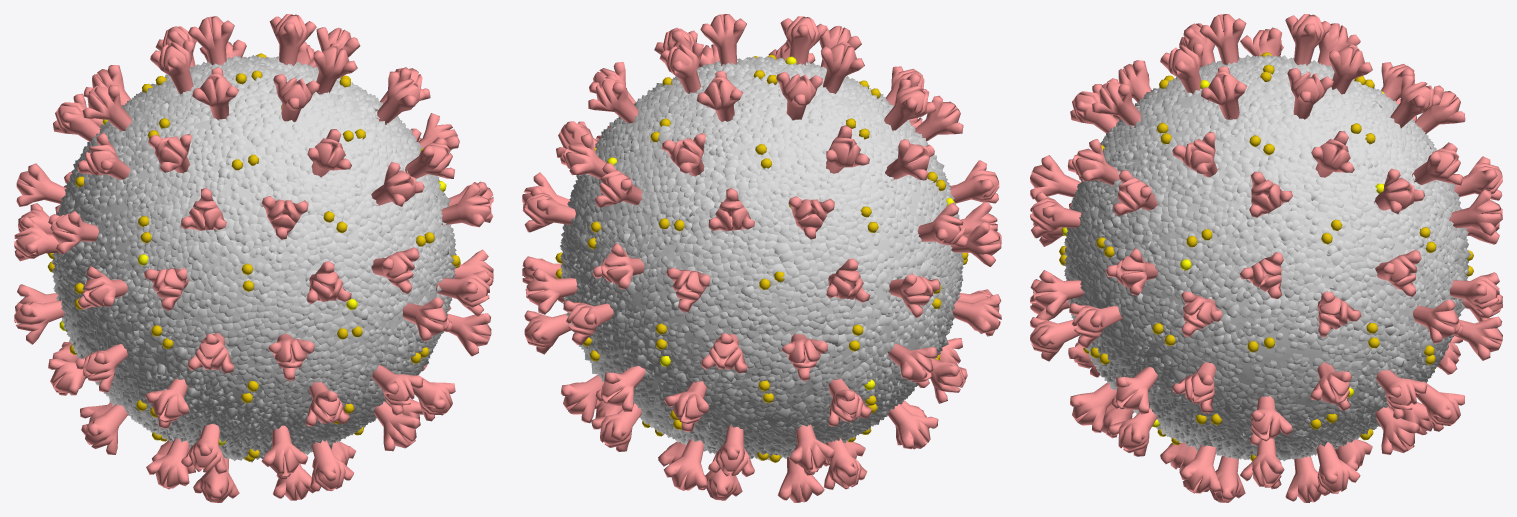
The model's file is covid.gltf.
The picture shows the model from 3 angles, left to right: view 1: azimuth 30°, elevation 25°; view 2: azimuth 150°, elevation 25°; view 3: azimuth 270°, elevation 25°; orthographic projection.
Visible parts, largest first — view 1: core, corona; view 2: core, corona; view 3: core, corona.
Part boxes in pixels (x1,y1,x2,y2): core: (47, 53, 460, 462); corona: (14, 14, 493, 502); core: (555, 54, 968, 462); corona: (522, 14, 1001, 502); core: (1059, 52, 1473, 461); corona: (1030, 14, 1502, 502).
Size of the model in its own units: 1.86 by 1.86 by 1.86.
